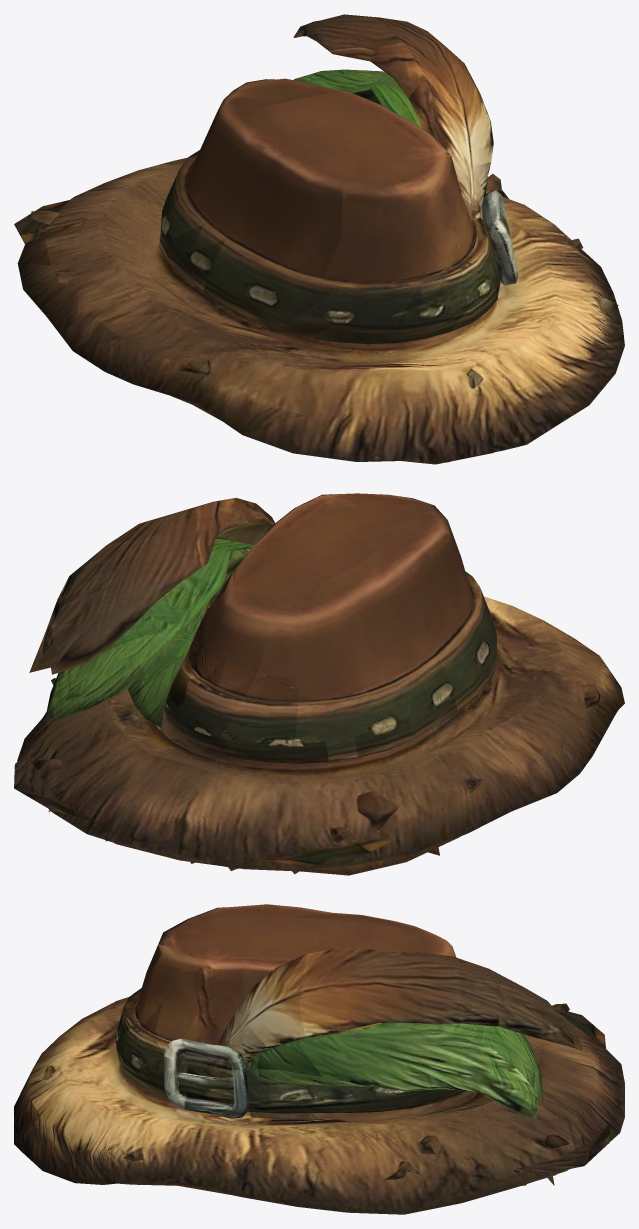
Rendered from Wayfinder.glb.
3 renders of one model, top to bottom at view 1: azimuth 30°, elevation 25°; view 2: azimuth 150°, elevation 25°; view 3: azimuth 270°, elevation 25°, orthographic. The views are drawn at different scales.
Visible parts, largest first — view 1: mesh_node.001; view 2: mesh_node.001; view 3: mesh_node.001.
Part boxes in pixels (bbox=[...]): mesh_node.001: bbox=[14, 14, 624, 464]; mesh_node.001: bbox=[14, 493, 624, 875]; mesh_node.001: bbox=[14, 904, 624, 1214].
Size of the model in its own units: 0.8438 by 0.4072 by 1.
Materials: 1 (1 with a texture image).
